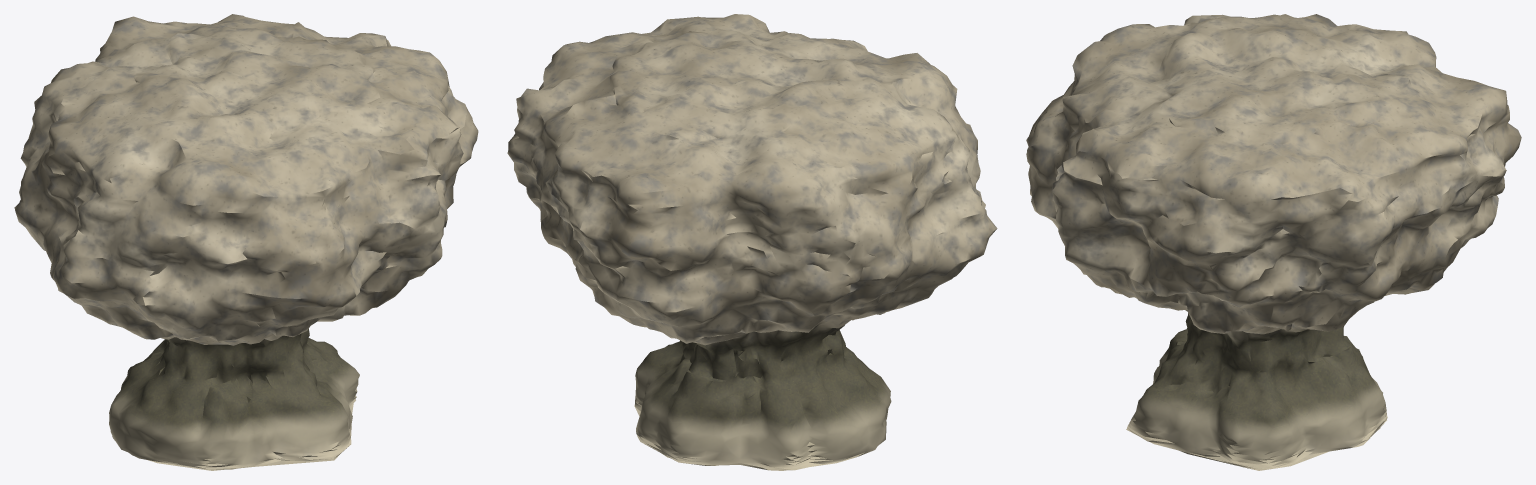
File: NotchRock_A.gltf
3 views of the same model, side by side, from view 1: azimuth 30°, elevation 25°; view 2: azimuth 150°, elevation 25°; view 3: azimuth 270°, elevation 25° (orthographic). The views are drawn at different scales.
Visible parts, largest first — view 1: NotchRock_A; view 2: NotchRock_A; view 3: NotchRock_A.
Boxes of the visible parts, x1,y1,x2,y2 form: NotchRock_A: [14, 14, 478, 470]; NotchRock_A: [507, 14, 997, 470]; NotchRock_A: [1026, 14, 1521, 470].
Bounding box in the file's own units: 7.33 × 5.86 × 7.35.
Materials: 1 (1 with a texture image).
